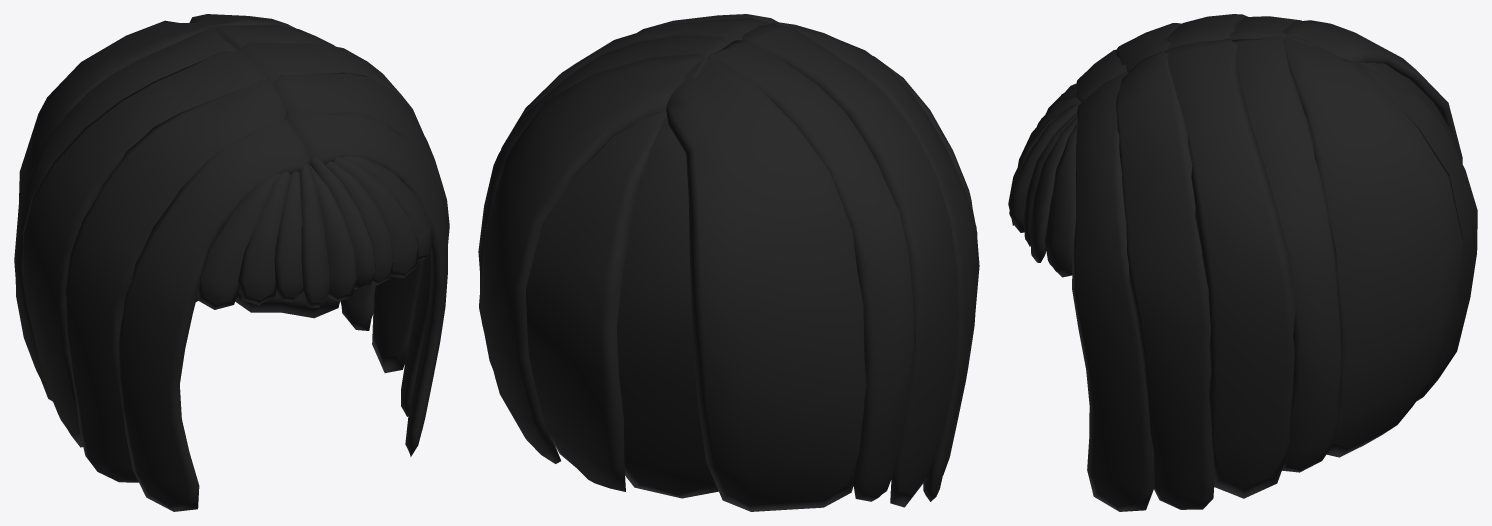
The model's file is Hair_015.glb.
3 renders of one model, left to right at view 1: azimuth 30°, elevation 25°; view 2: azimuth 150°, elevation 25°; view 3: azimuth 270°, elevation 25°, orthographic. The views are drawn at different scales.
Visible parts, largest first — view 1: Hair_015; view 2: Hair_015; view 3: Hair_015.
Part boxes in pixels (left/top/right/bottom): Hair_015: left=14, top=14, right=449, bottom=511; Hair_015: left=478, top=14, right=979, bottom=511; Hair_015: left=1008, top=14, right=1477, bottom=511.
Size of the model in its own units: 0.4445 by 0.4483 by 0.4571.
Materials: 1 (1 with a texture image).
